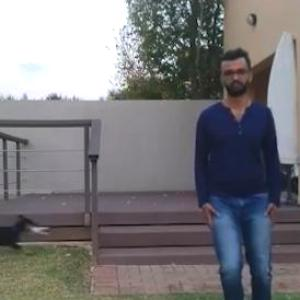follow: (178, 38, 284, 299)
